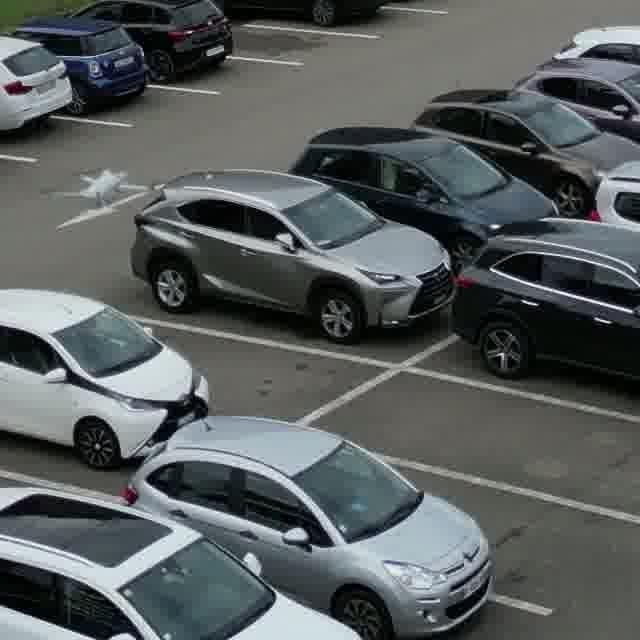Drohne: (49, 168, 162, 216)
